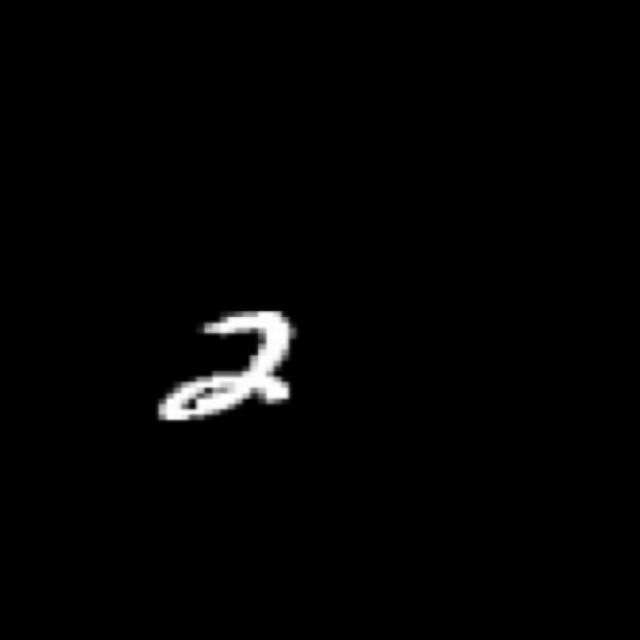two -2-: (146, 303, 317, 435)
